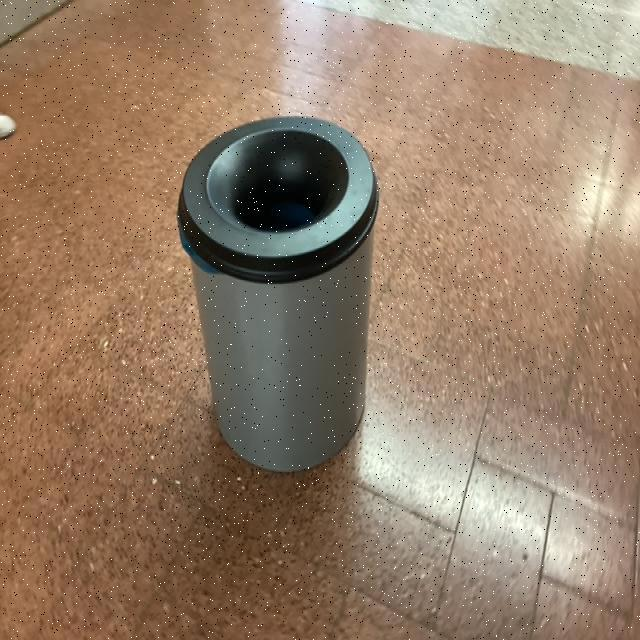garbage container: (158, 82, 392, 474)
